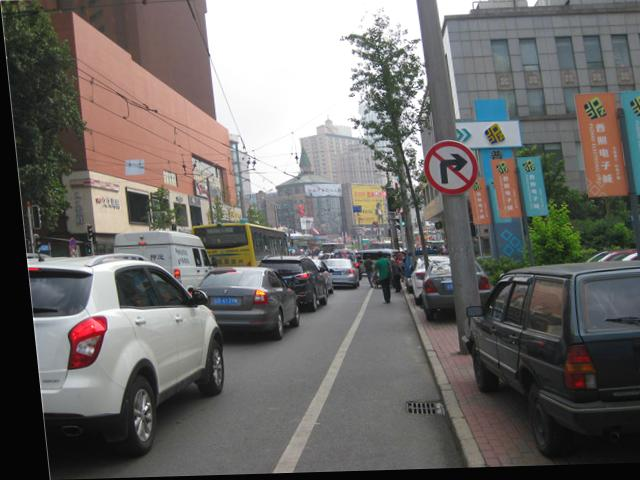not_turn_right: (416, 141, 475, 197)
